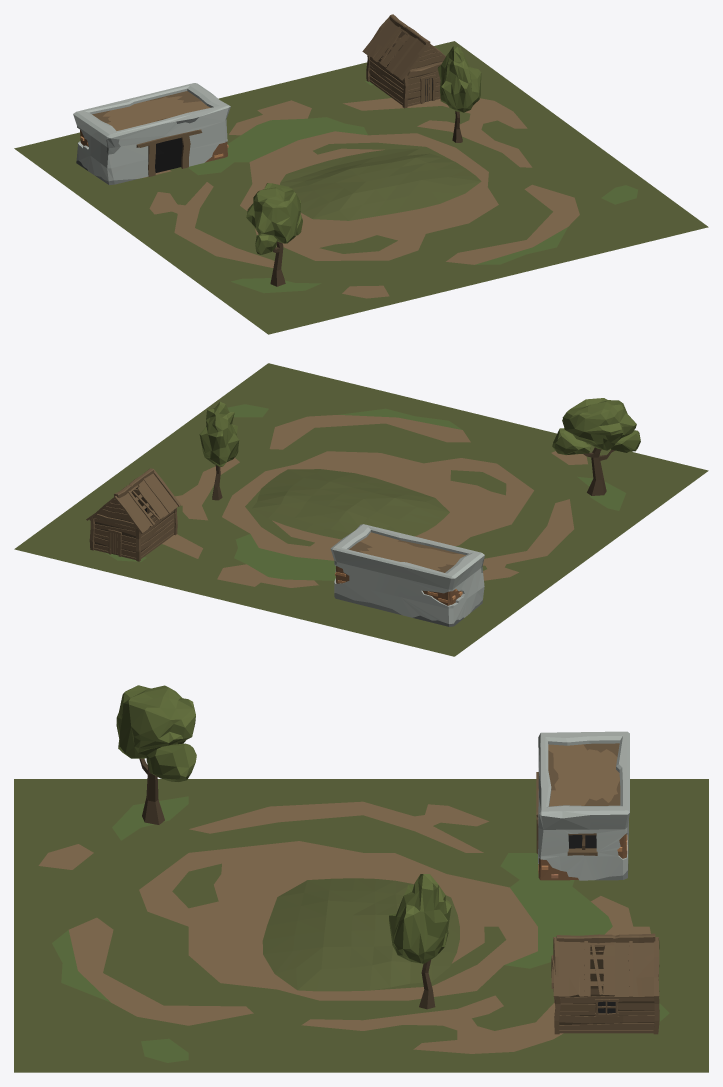
3 renders of one model, top to bottom at view 1: azimuth 30°, elevation 25°; view 2: azimuth 150°, elevation 25°; view 3: azimuth 270°, elevation 25°, orthographic. The views are drawn at different scales.
Parts seen in each view (by area): view 1: SM_Env_FloorTile_02, SM_Bld_Village_02, SM_Env_GroundMounds_01, SM_Bld_Hut_01, SM_Env_Tree_09, SM_Env_Tree_02; view 2: SM_Env_FloorTile_02, SM_Bld_Village_02, SM_Env_GroundMounds_01, SM_Bld_Hut_01, SM_Env_Tree_09, SM_Env_Tree_02; view 3: SM_Env_FloorTile_02, SM_Env_GroundMounds_01, SM_Bld_Village_02, SM_Bld_Hut_01, SM_Env_Tree_09, SM_Env_Tree_02.
Part boxes in pixels (x1=…): SM_Env_FloorTile_02: x1=14, y1=41, x2=708, y2=334; SM_Bld_Village_02: x1=73, y1=83, x2=230, y2=184; SM_Env_GroundMounds_01: x1=280, y1=148, x2=481, y2=220; SM_Bld_Hut_01: x1=362, y1=14, x2=445, y2=108; SM_Env_Tree_09: x1=246, y1=183, x2=302, y2=286; SM_Env_Tree_02: x1=437, y1=46, x2=481, y2=142; SM_Env_FloorTile_02: x1=14, y1=363, x2=708, y2=656; SM_Bld_Village_02: x1=330, y1=524, x2=484, y2=626; SM_Env_GroundMounds_01: x1=252, y1=469, x2=449, y2=539; SM_Bld_Hut_01: x1=86, y1=468, x2=180, y2=561; SM_Env_Tree_09: x1=552, y1=398, x2=640, y2=495; SM_Env_Tree_02: x1=199, y1=401, x2=239, y2=500; SM_Env_FloorTile_02: x1=14, y1=779, x2=708, y2=1072; SM_Env_GroundMounds_01: x1=262, y1=878, x2=459, y2=991; SM_Bld_Village_02: x1=536, y1=731, x2=629, y2=880; SM_Bld_Hut_01: x1=551, y1=933, x2=659, y2=1034; SM_Env_Tree_09: x1=116, y1=685, x2=196, y2=824; SM_Env_Tree_02: x1=389, y1=874, x2=451, y2=1009.
Size of the model in its own units: 40.64 by 8.49 by 40.64.
6 materials, 6 textured.
